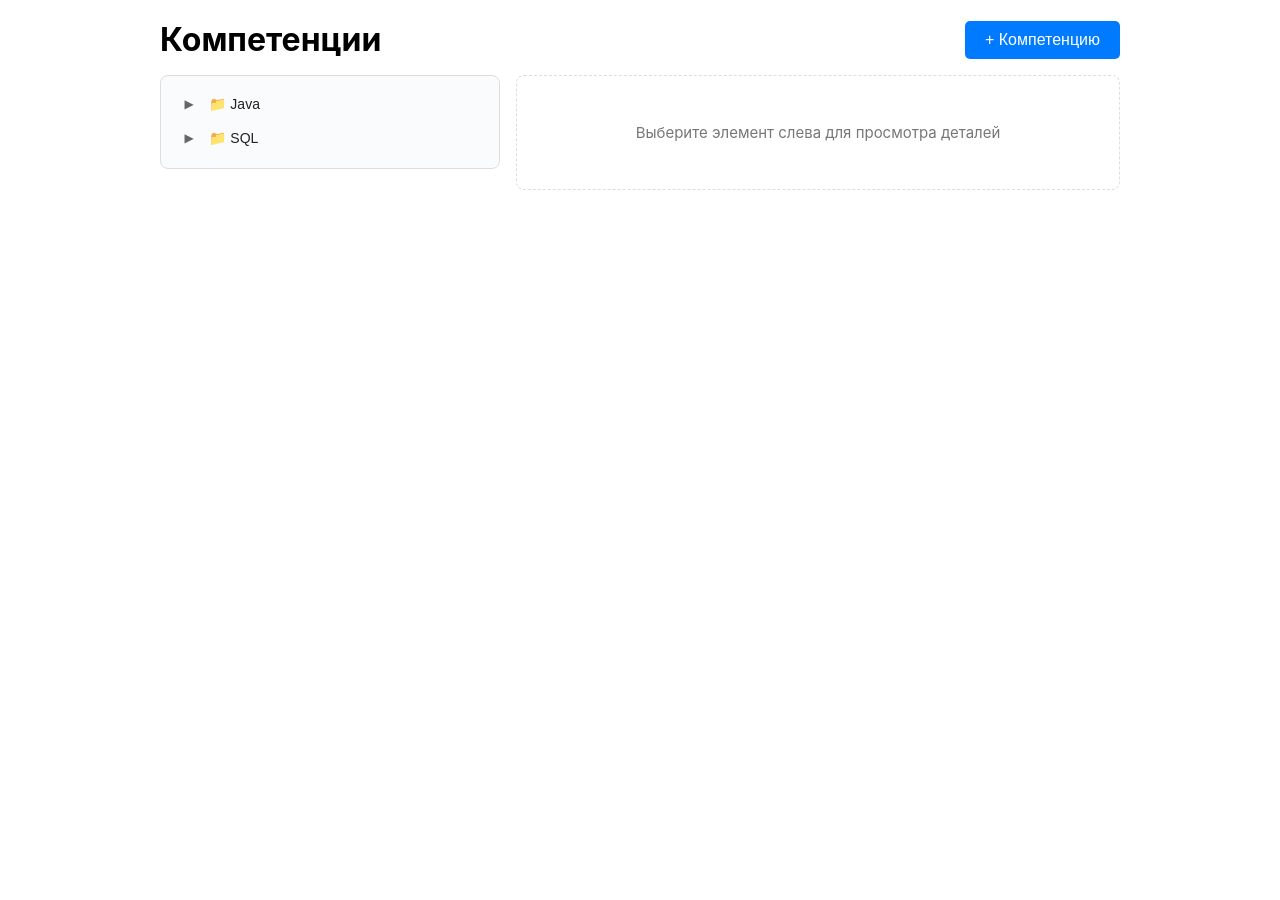
Test case: AdminCompetenciesTreePage (lock) › создаёт компетенцию через модальное окно и обновляет список
Expected: the button "📁 Java" is shown, [203,92,481,116]
Click the button "+ Компетенцию". click: [1042, 40]
box: [965,20,1120,58]
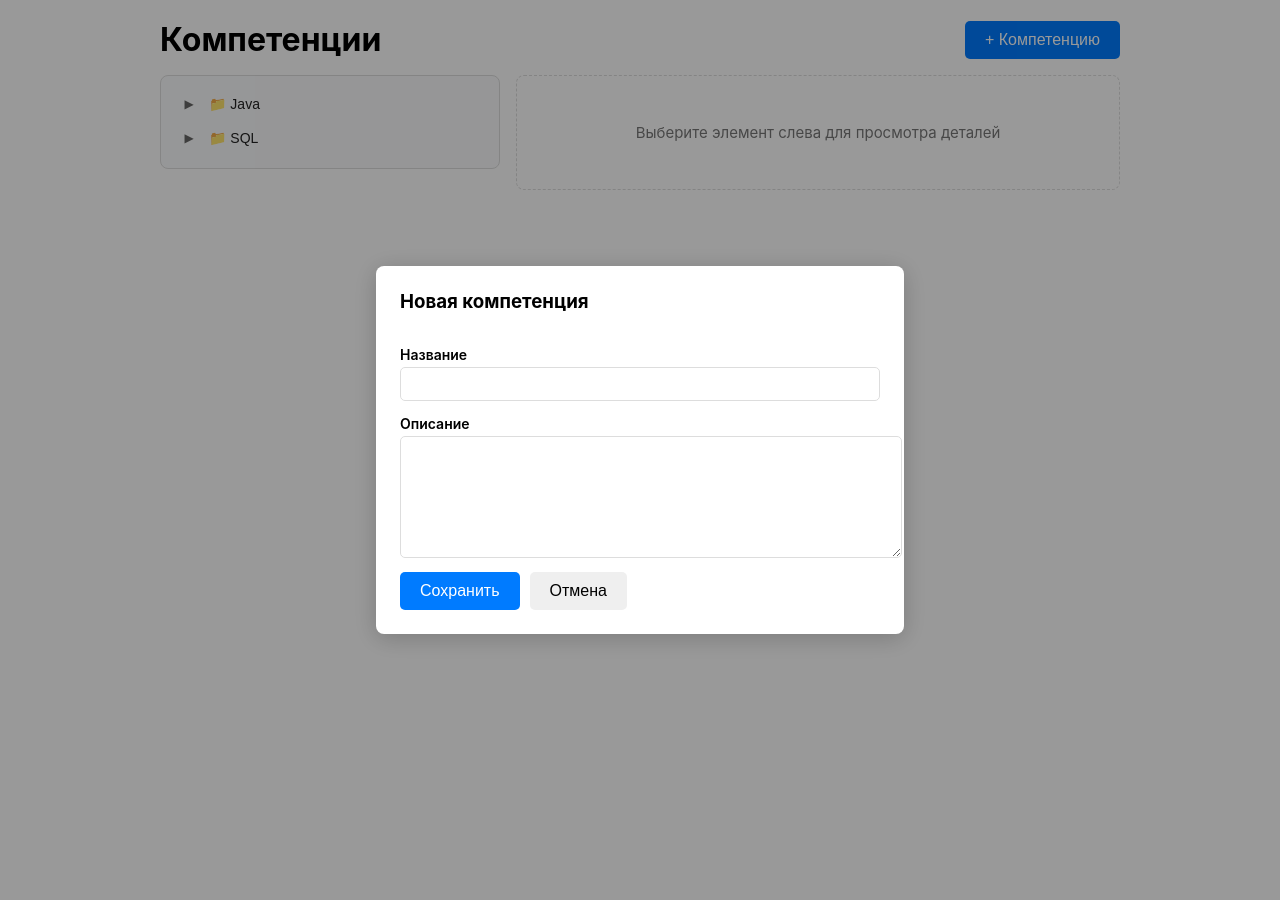
Type "Go" into the field. click: [640, 384]
box: [400,367,880,401]
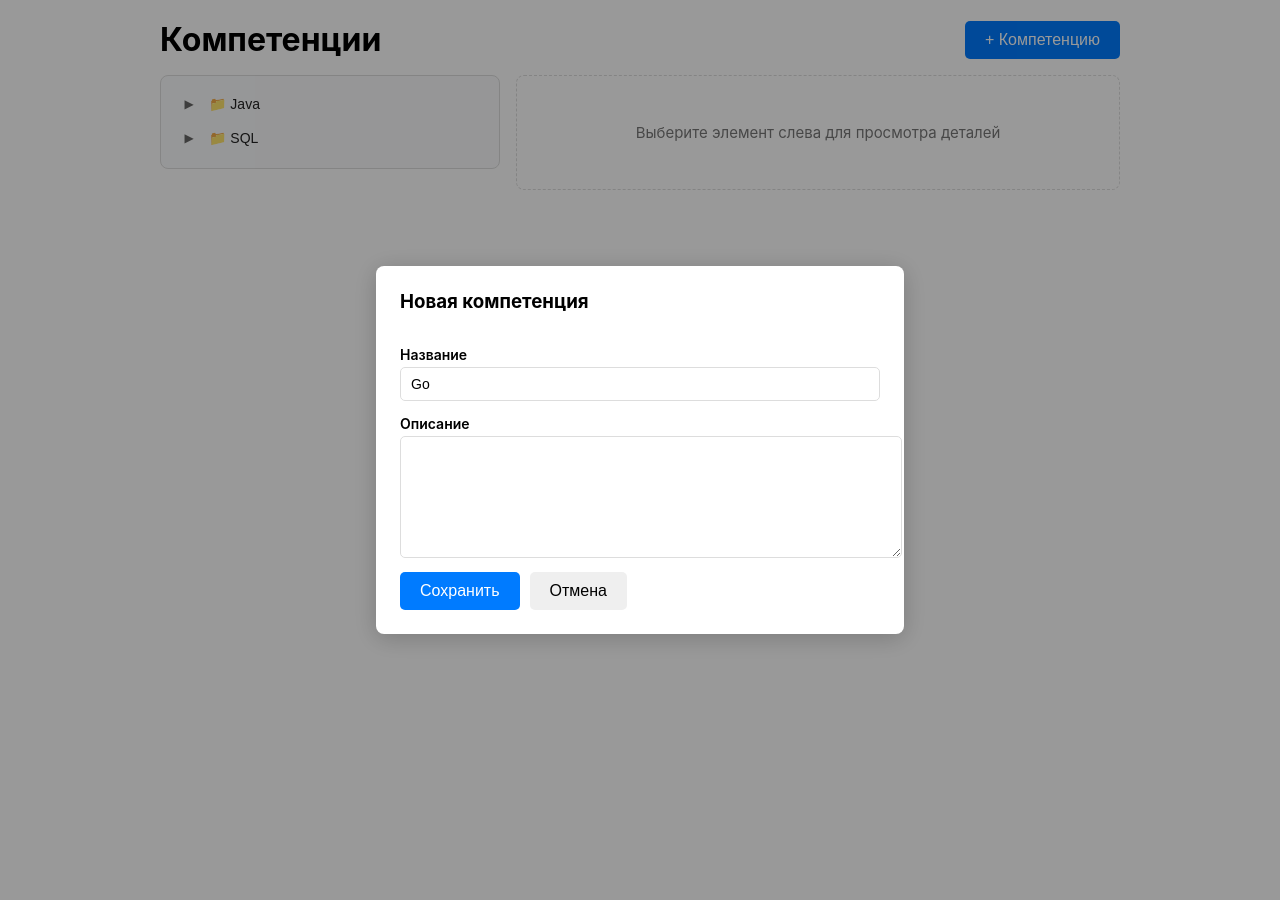
Type "Оценка знаний Go" into the text box. click: [651, 497]
box: [400,436,902,558]
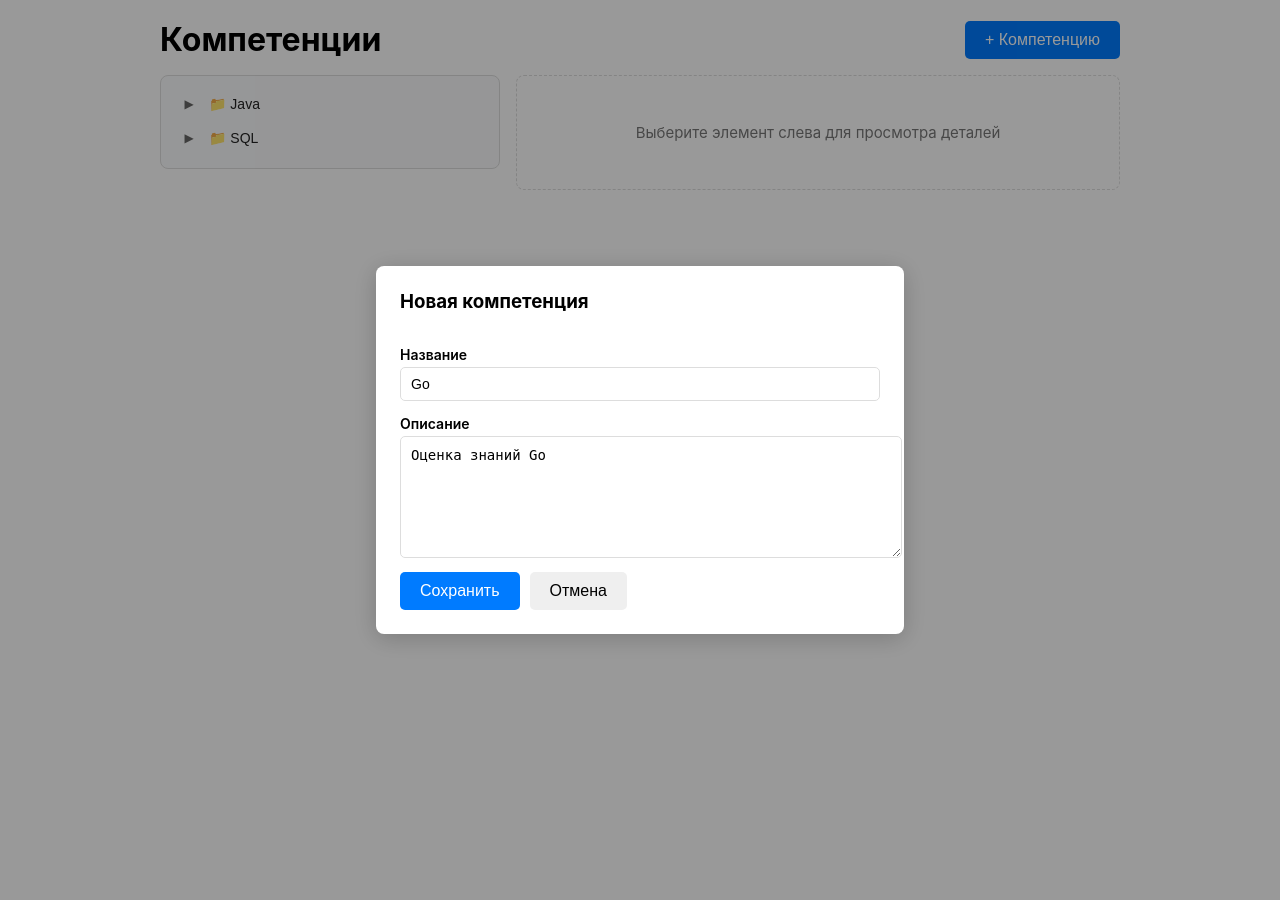
Click the button "Сохранить". click: [460, 591]
box: [400,572,520,610]
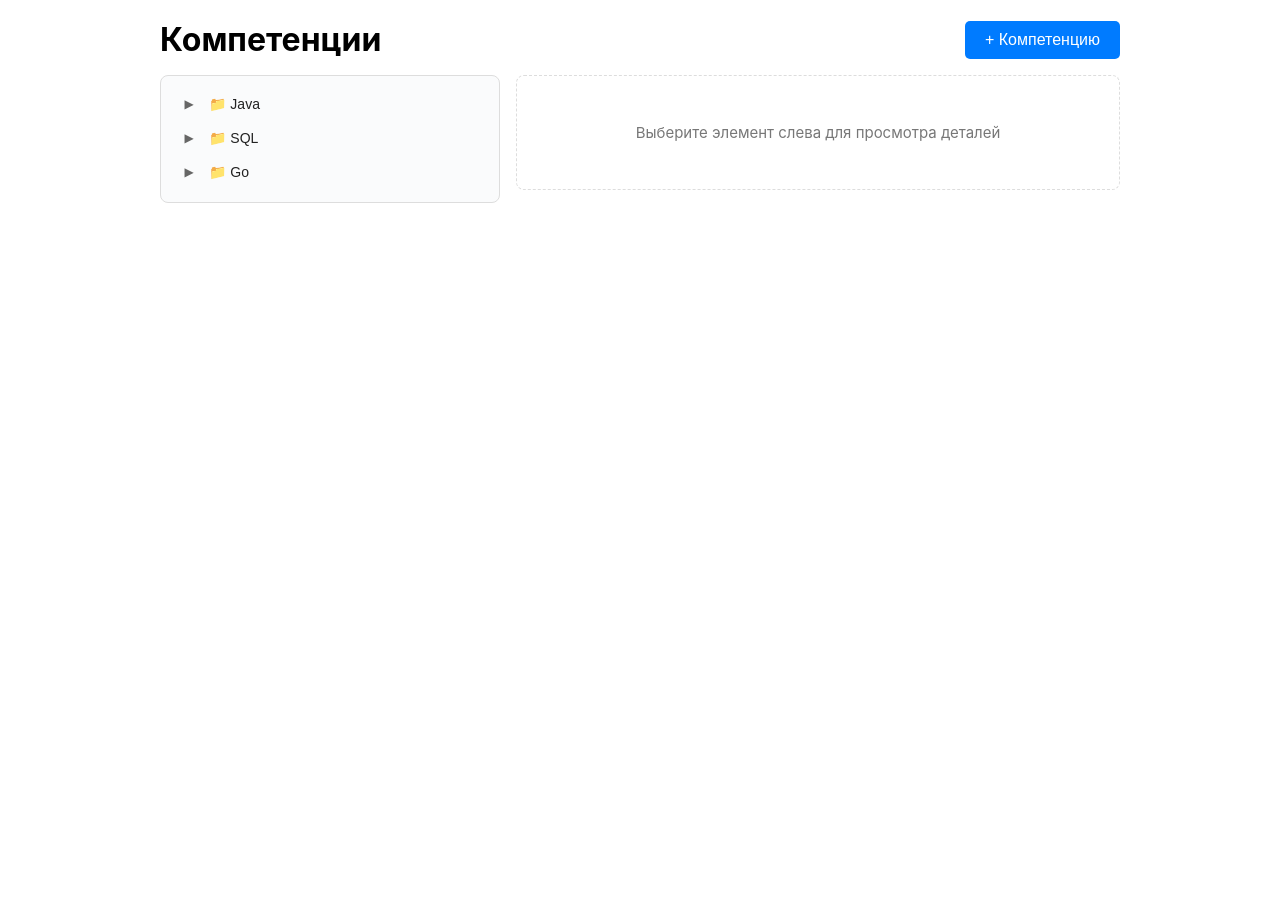
Expected: the button "📁 Go" is shown, [203,160,481,184]
